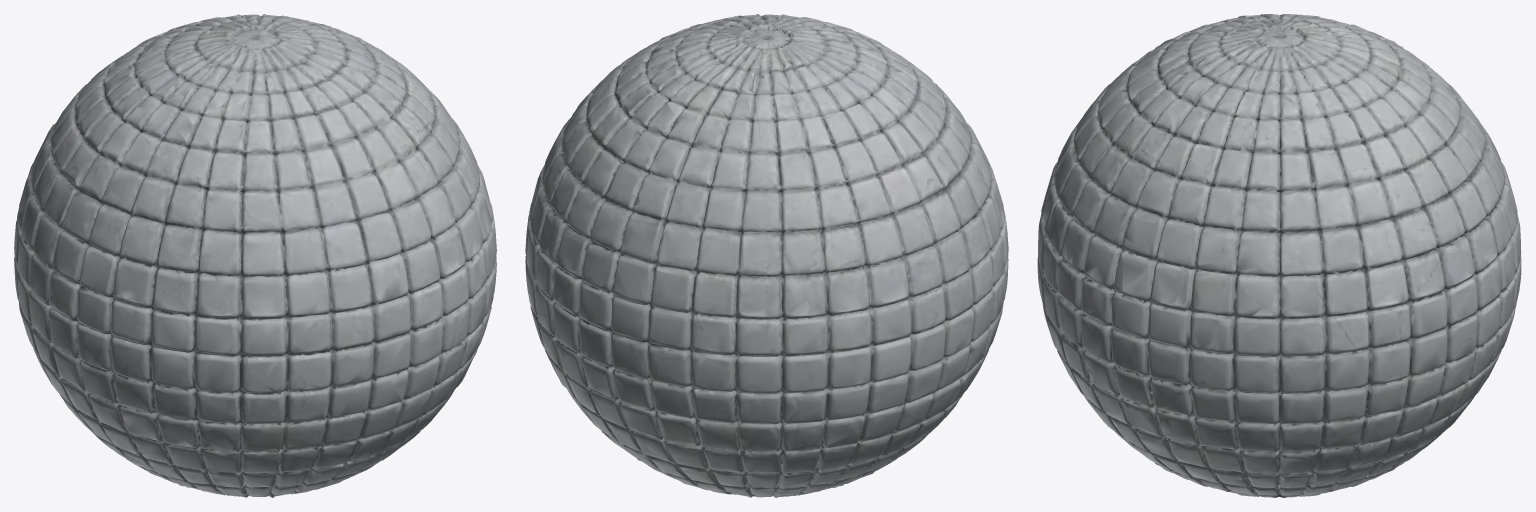
The model's file is poplur_cube_disco_ball.glb.
The picture shows the model from 3 angles, left to right: view 1: azimuth 30°, elevation 25°; view 2: azimuth 150°, elevation 25°; view 3: azimuth 270°, elevation 25°; orthographic projection.
Visible parts, largest first — view 1: mesh_node; view 2: mesh_node; view 3: mesh_node.
Boxes of the visible parts, x1,y1,x2,y2 form: mesh_node: [14, 14, 496, 497]; mesh_node: [525, 14, 1008, 497]; mesh_node: [1037, 14, 1521, 497].
Bounding box in the file's own units: 1.9 × 1.91 × 1.9.
1 material, 1 textured.
